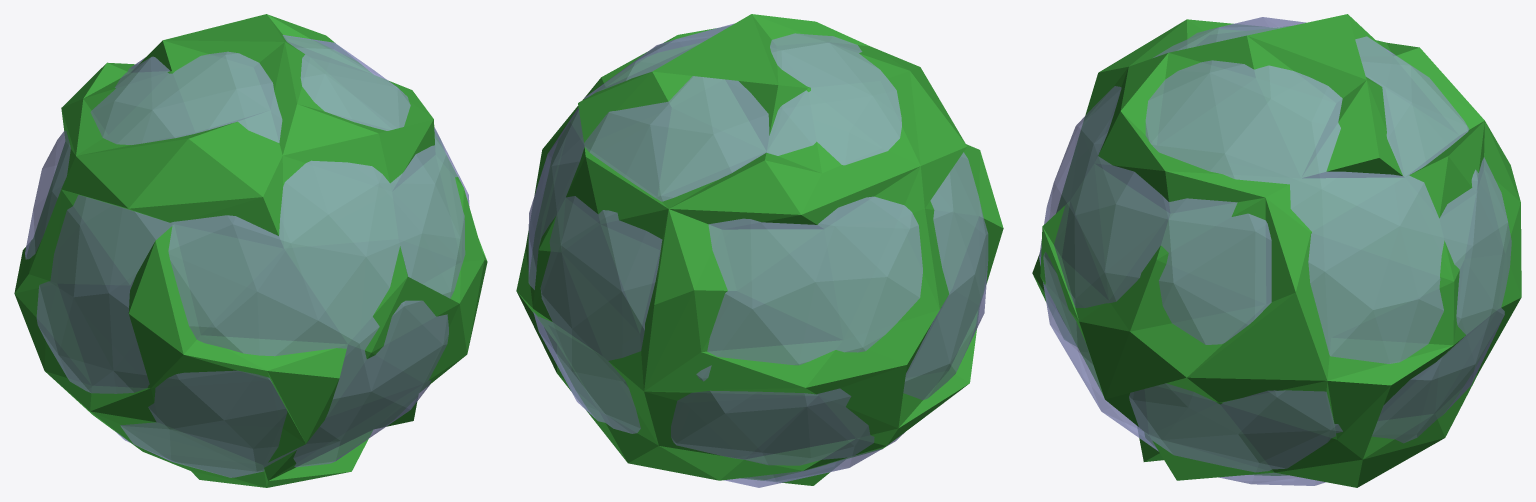
The model's file is earth_like_planet6.fbx.
The picture shows the model from 3 angles, left to right: view 1: azimuth 30°, elevation 25°; view 2: azimuth 150°, elevation 25°; view 3: azimuth 270°, elevation 25°; orthographic projection. The views are drawn at different scales.
Parts seen in each view (by area): view 1: earth_like_planet6; view 2: earth_like_planet6; view 3: earth_like_planet6.
Part boxes in pixels (box(x1,y1,x2,y2)): earth_like_planet6: box(14, 14, 487, 487); earth_like_planet6: box(516, 14, 1003, 487); earth_like_planet6: box(1032, 14, 1521, 487).
Bounding box in the file's own units: 195 × 201 × 198.
